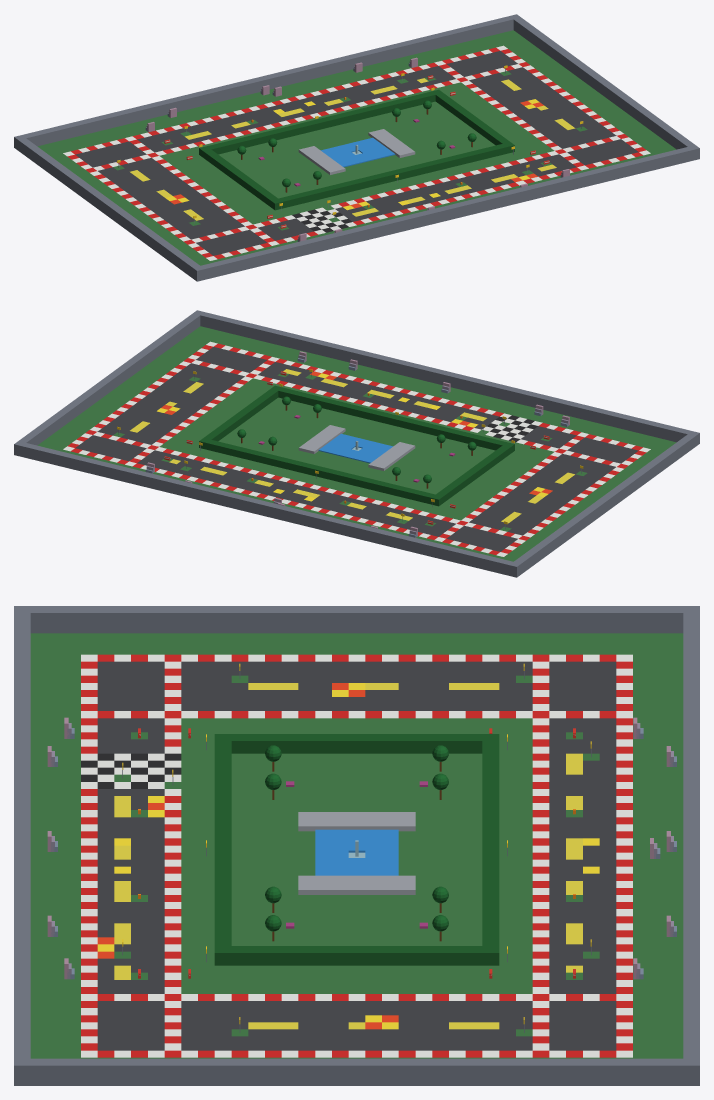
File: jardin_rust.obj
3 renders of one model, top to bottom at view 1: azimuth 30°, elevation 25°; view 2: azimuth 150°, elevation 25°; view 3: azimuth 270°, elevation 25°, orthographic. The views are drawn at different scales.
Visible parts, largest first — view 1: Tile_., Wall_#, Tile_P, Tile_K, Wall_H, Tile_L, Wall_S, Fountain_water, Tile_M, Grandstand, Tile_R, Tree_crown; view 2: Tile_., Wall_#, Tile_P, Tile_K, Wall_H, Tile_L, Wall_S, Fountain_water, Tile_M, Grandstand, Tile_R, Tree_crown; view 3: Tile_., Tile_P, Wall_#, Tile_K, Wall_H, Tile_L, Wall_S, Fountain_water, Tile_M, Tile_R, Grandstand, Tree_crown (+5 smaller).
Part boxes in pixels (x1,y1,x2,y2): Tile_.: [37, 30, 676, 265]; Wall_#: [14, 14, 699, 281]; Tile_P: [75, 51, 638, 255]; Tile_K: [63, 45, 650, 260]; Wall_H: [199, 89, 514, 210]; Tile_L: [130, 78, 575, 220]; Wall_S: [298, 129, 415, 174]; Fountain_water: [321, 137, 395, 167]; Tile_M: [292, 207, 356, 234]; Grandstand: [145, 57, 569, 241]; Tile_R: [165, 99, 543, 210]; Tree_crown: [237, 100, 476, 187]; Tile_.: [37, 326, 676, 561]; Wall_#: [14, 310, 699, 577]; Tile_P: [75, 347, 638, 551]; Tile_K: [63, 341, 650, 556]; Wall_H: [199, 385, 514, 506]; Tile_L: [130, 369, 574, 523]; Wall_S: [298, 425, 415, 470]; Fountain_water: [318, 433, 392, 463]; Tile_M: [482, 413, 542, 442]; Grandstand: [145, 351, 569, 537]; Tile_R: [157, 371, 552, 501]; Tree_crown: [237, 396, 476, 483]; Tile_.: [30, 633, 683, 1058]; Tile_P: [97, 661, 616, 1050]; Wall_#: [14, 606, 699, 1085]; Tile_K: [81, 654, 632, 1057]; Wall_H: [214, 734, 499, 965]; Tile_L: [114, 683, 582, 1029]; Wall_S: [298, 812, 415, 894]; Fountain_water: [315, 829, 398, 875]; Tile_M: [81, 753, 181, 788]; Tile_R: [97, 683, 599, 1029]; Grandstand: [47, 717, 676, 979]; Tree_crown: [265, 745, 448, 931].
Size of the model in its own units: 390 by 10 by 246.
